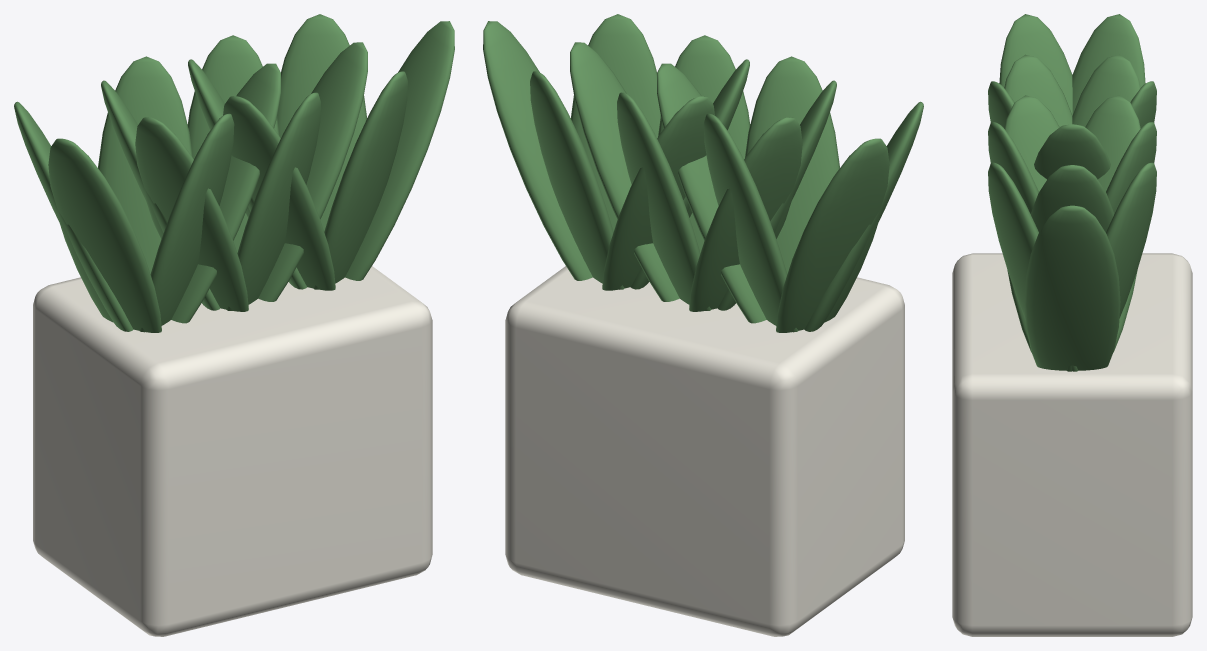
The model's file is atelier-wall-mounted-planter.glb.
3 renders of one model, left to right at view 1: azimuth 30°, elevation 25°; view 2: azimuth 150°, elevation 25°; view 3: azimuth 270°, elevation 25°, orthographic. The views are drawn at different scales.
Parts seen in each view (by area): view 1: ceramic.041, leaf.005; view 2: ceramic.041, leaf.005; view 3: ceramic.041, leaf.005.
Boxes of the visible parts, bbox=[...] form: ceramic.041: bbox=[33, 266, 432, 636]; leaf.005: bbox=[14, 14, 454, 332]; ceramic.041: bbox=[505, 266, 904, 636]; leaf.005: bbox=[483, 14, 923, 332]; ceramic.041: bbox=[952, 253, 1192, 636]; leaf.005: bbox=[988, 14, 1156, 371].
Size of the model in its own units: 0.5712 by 0.65 by 0.3.
